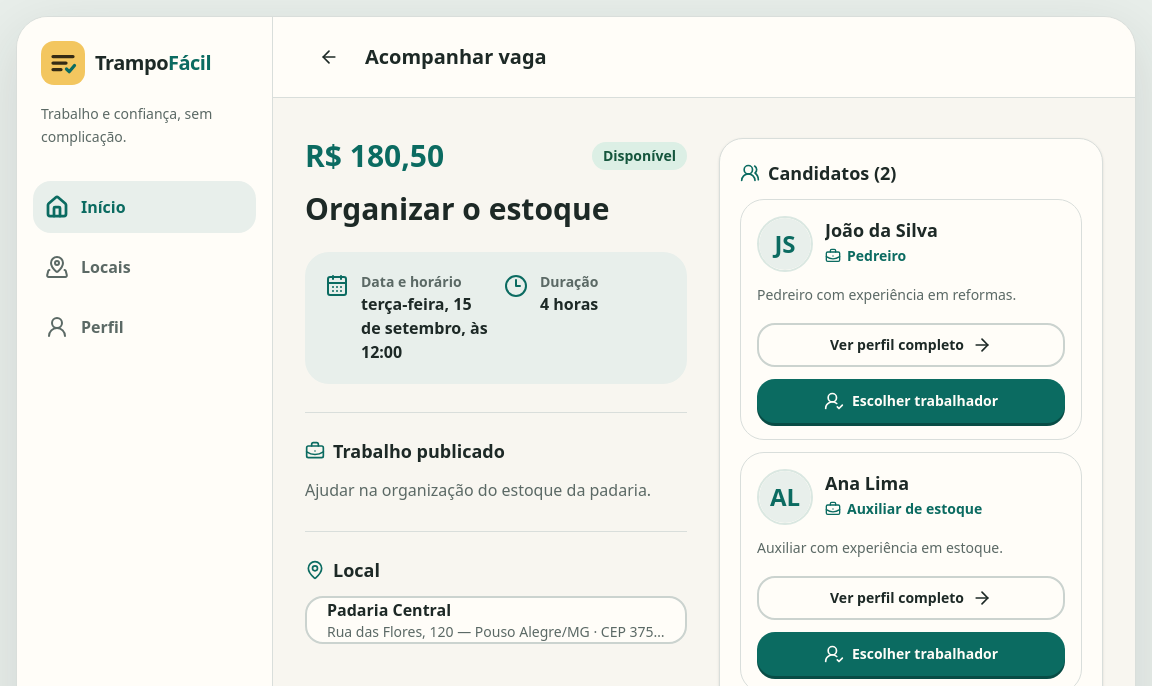
Test: contractor jobs flow › lists each worker once and lets the contractor choose a candidate
Expected: the text "Pedreiro" is shown, [825,246,906,265]
Click the button "Escolher trabalhador" below "Pedreiro com experiência em reformas.": (911, 401) [757,379,1065,423]
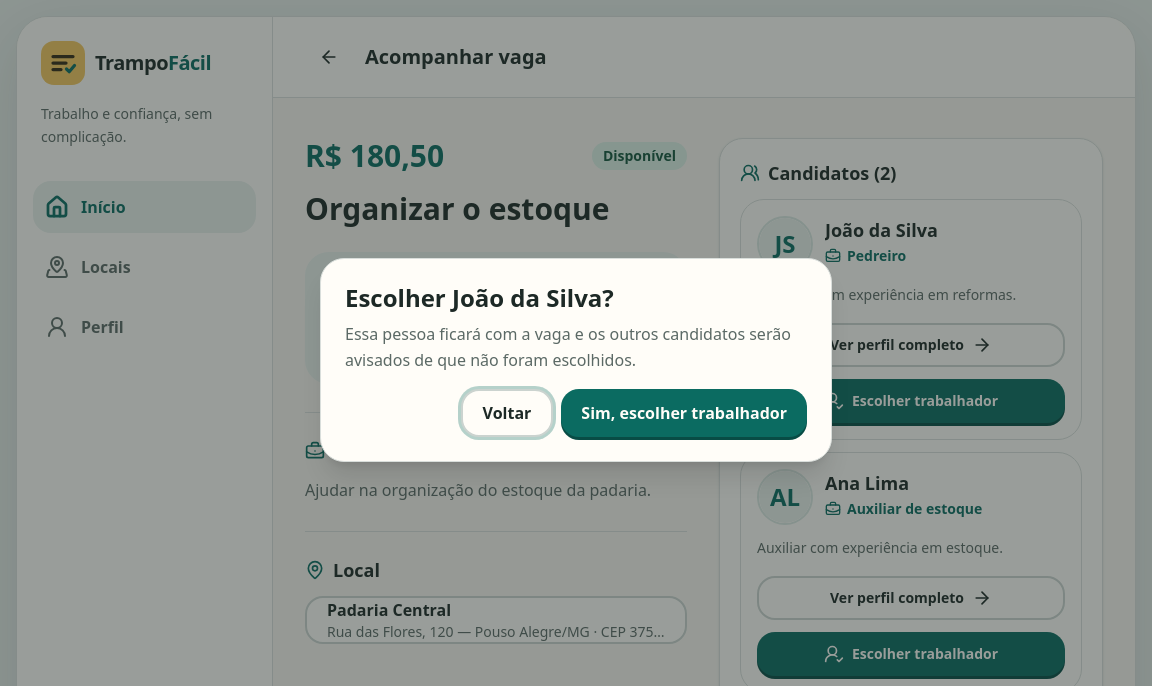
Now the heading "Escolher João da Silva?" is shown, box [345,281,614,314]
Click the button "Sim, escolher trabalhador": (684, 413) [561,389,807,437]
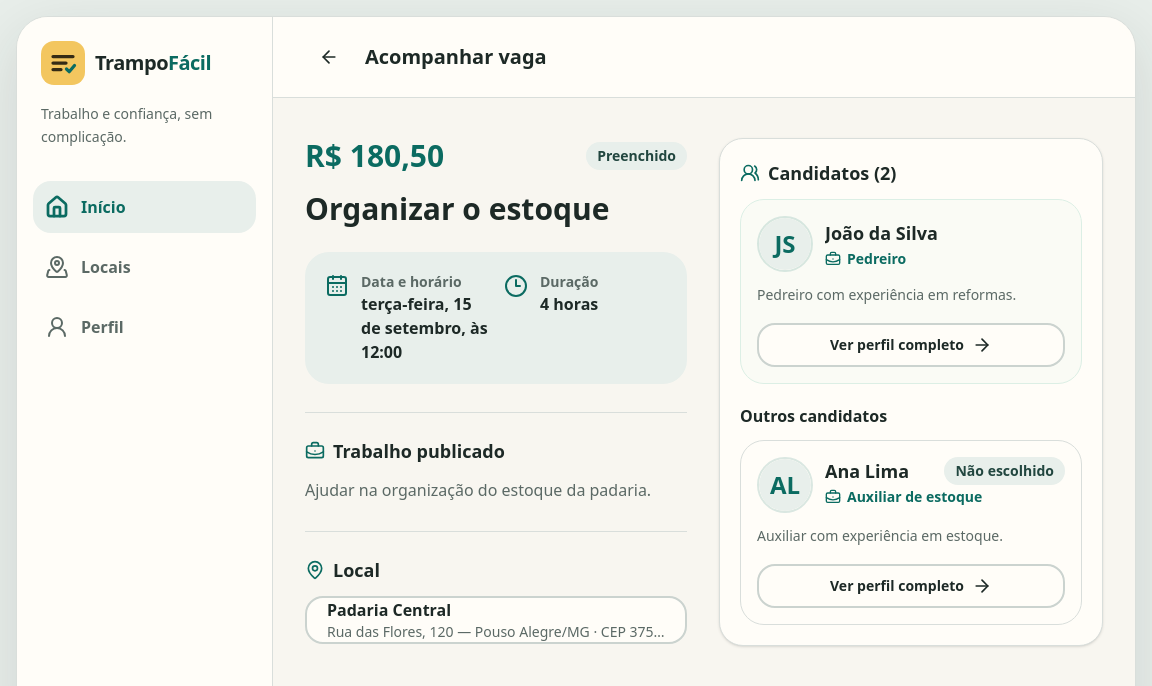
Now the element named "Trabalhador confirmado" is shown, box [740,199,1082,384]
Now the text "Não escolhido" is shown, box [944,457,1065,485]
